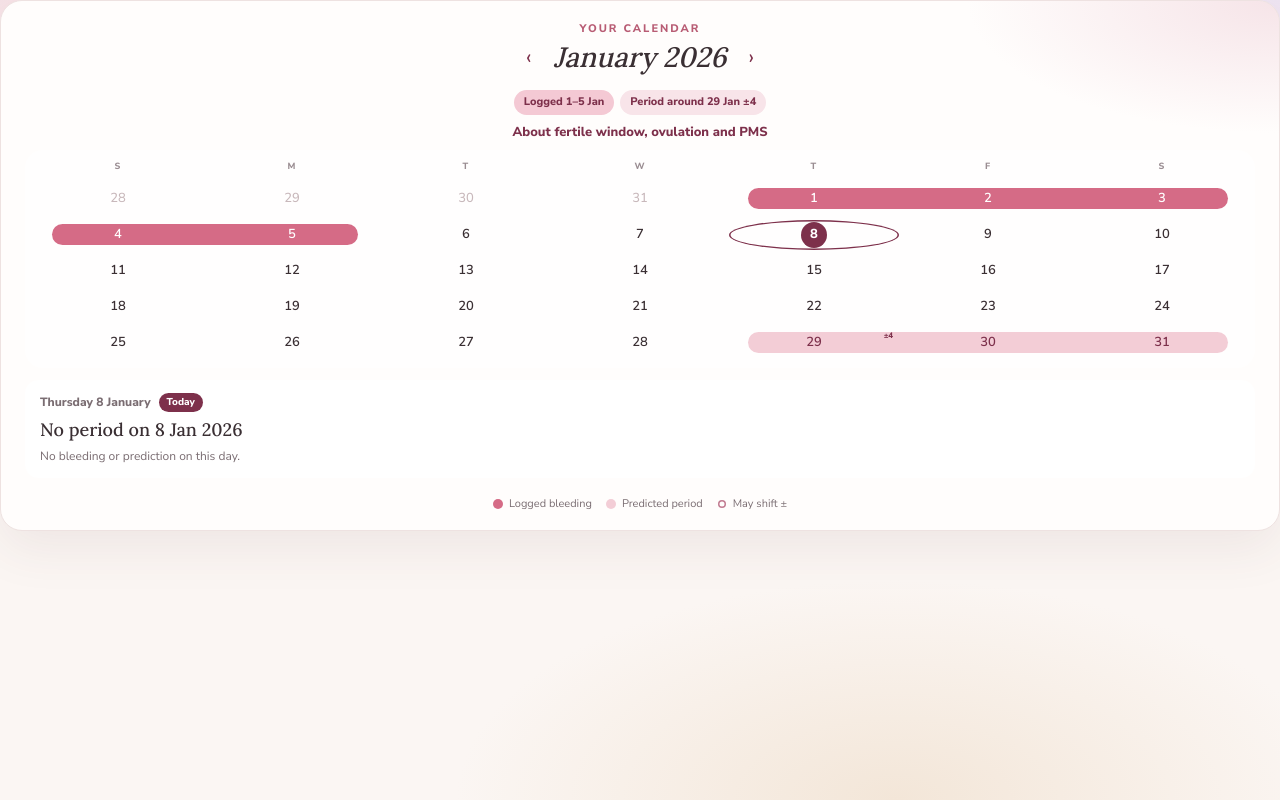
Test: CycleCalendar › moves between months and back to today
What coordinates should you click on to do the following:
click the button named "Next month"
I would click on:
 (751, 57)
Its box is left=736, top=42, right=766, bottom=72.
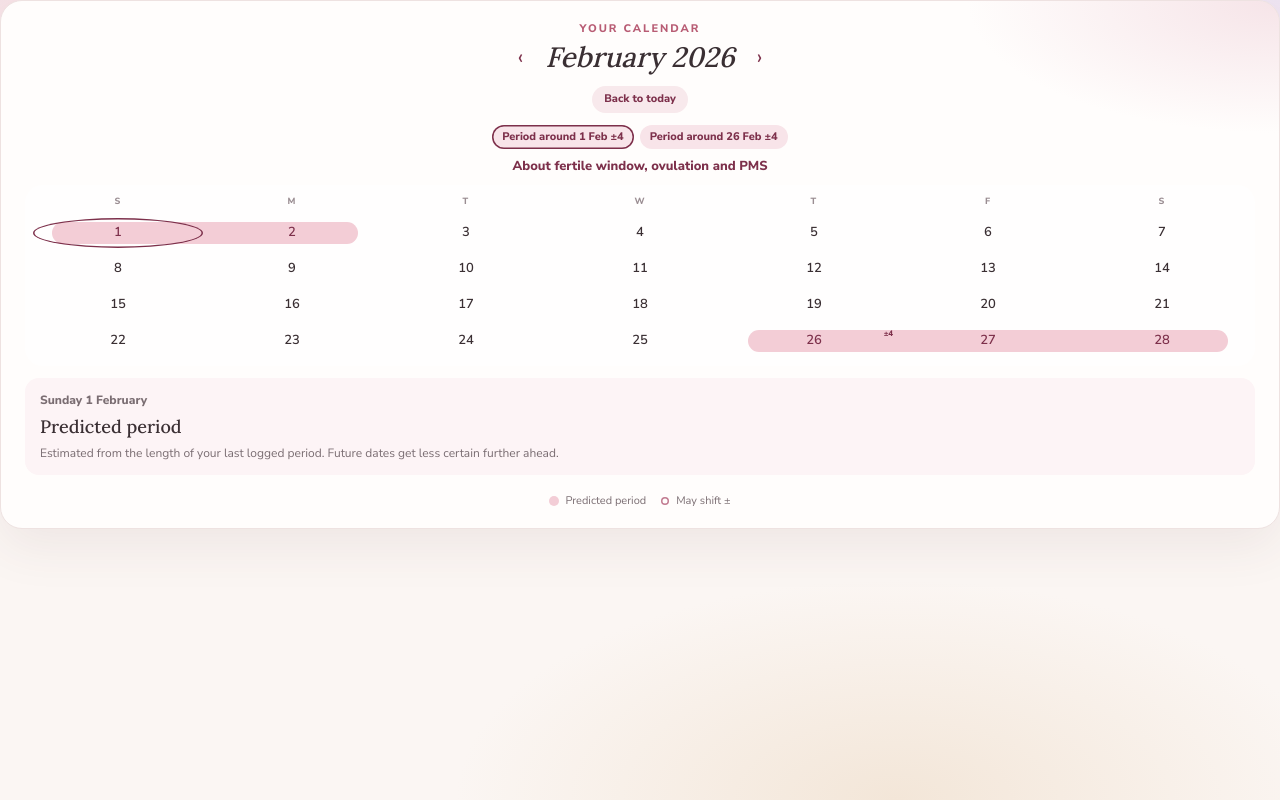
Expected: the heading "February 2026" is shown, left=545, top=36, right=735, bottom=78
What coordinates should you click on to do the following:
click the button named "Previous month"
I would click on:
 (520, 57)
Its box is left=505, top=42, right=535, bottom=72.
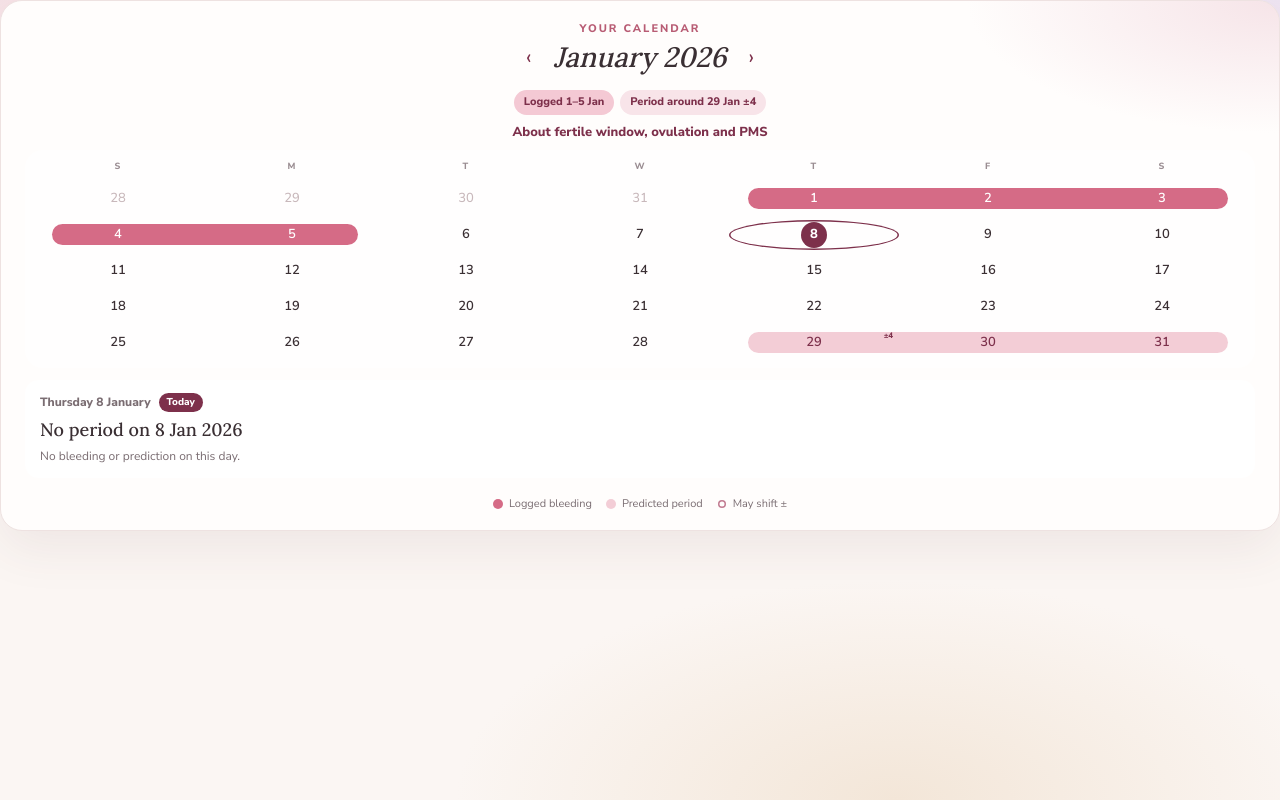
What coordinates should you click on to do the following:
click the button named "Previous month"
I would click on:
 (529, 57)
Its box is left=514, top=42, right=544, bottom=72.
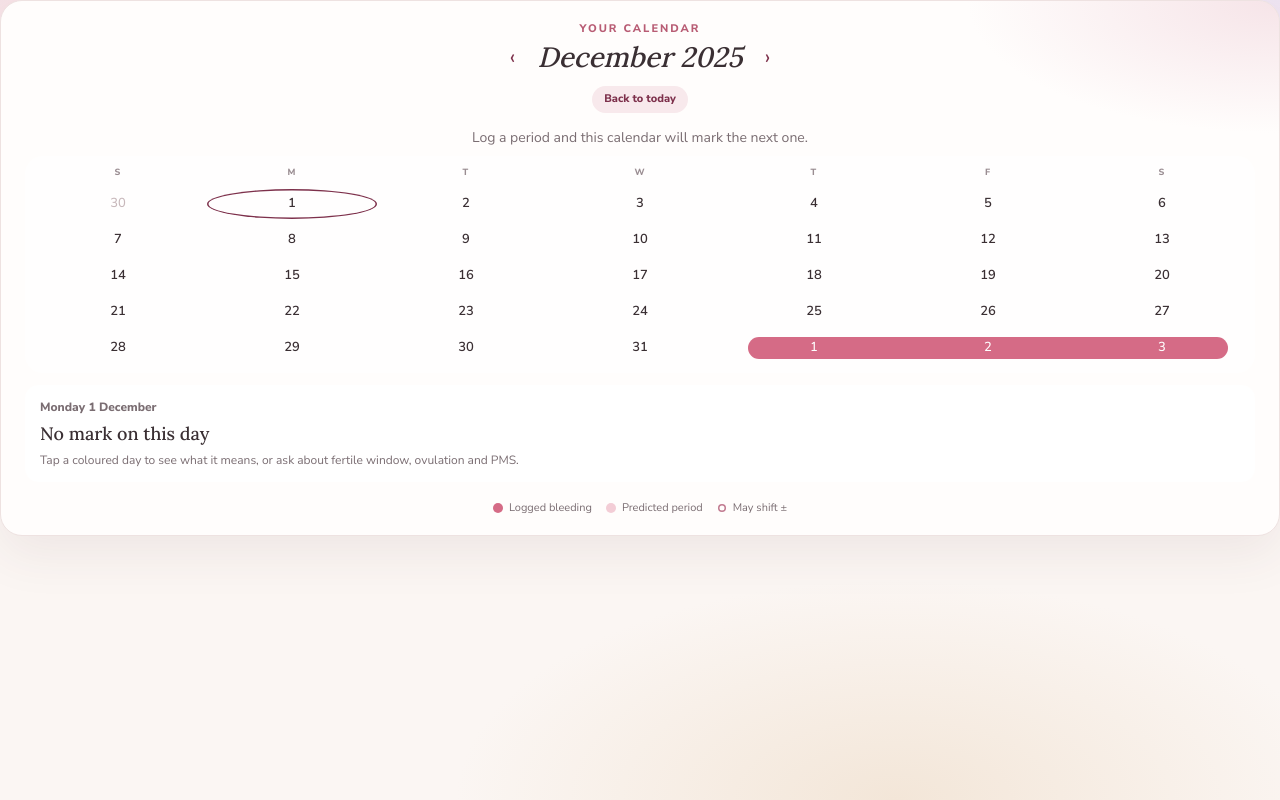
Expected: the heading "December 2025" is shown, left=538, top=36, right=743, bottom=78
What coordinates should you click on to do the following:
click the button "Back to today"
I would click on:
 (640, 99)
Its box is left=592, top=86, right=688, bottom=112.
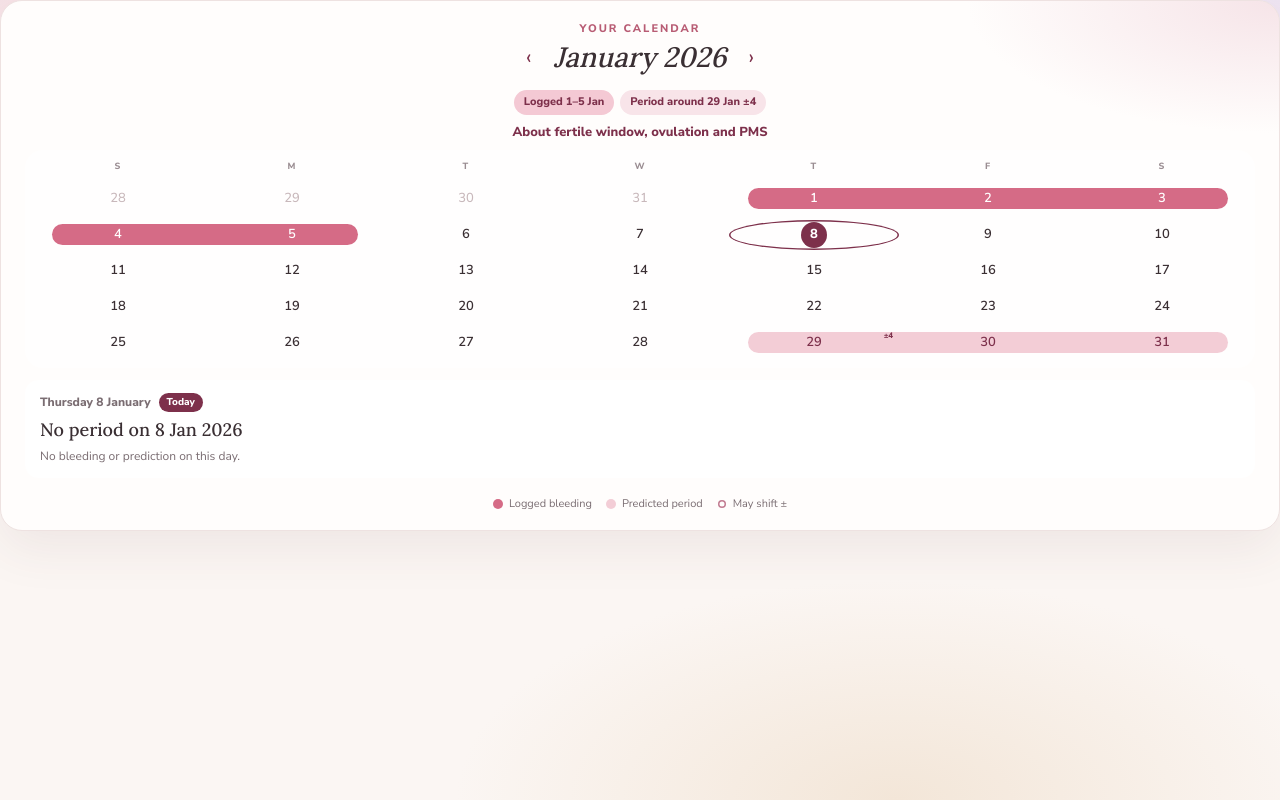
Expected: the heading "January 2026" is shown, left=554, top=36, right=726, bottom=78
